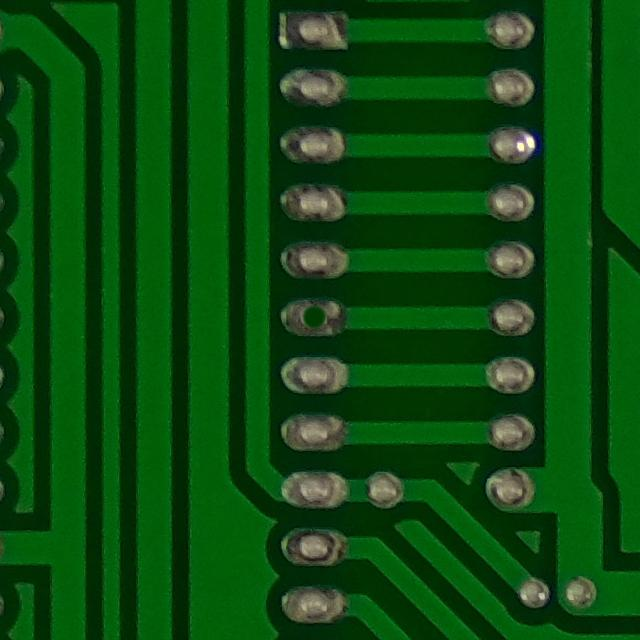missing_hole: (285, 290, 355, 351)
